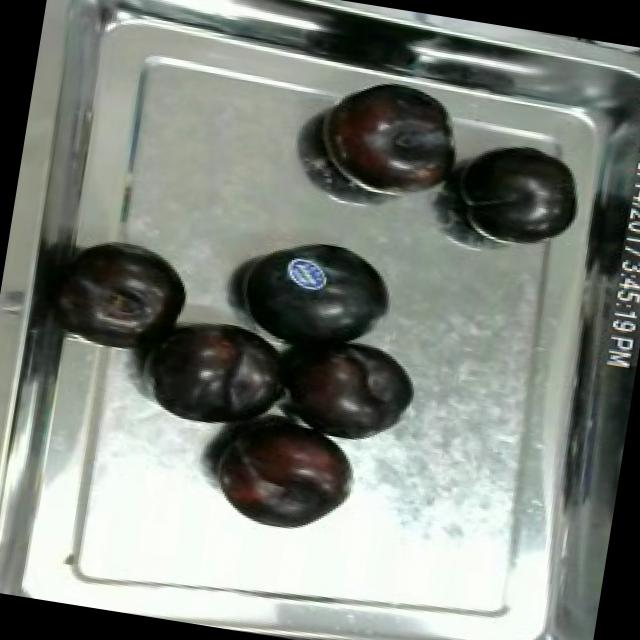Fruit: (224, 221, 407, 367), (198, 402, 368, 544), (306, 68, 472, 208), (134, 310, 293, 440), (442, 132, 592, 258), (277, 326, 426, 452), (56, 234, 192, 346)
